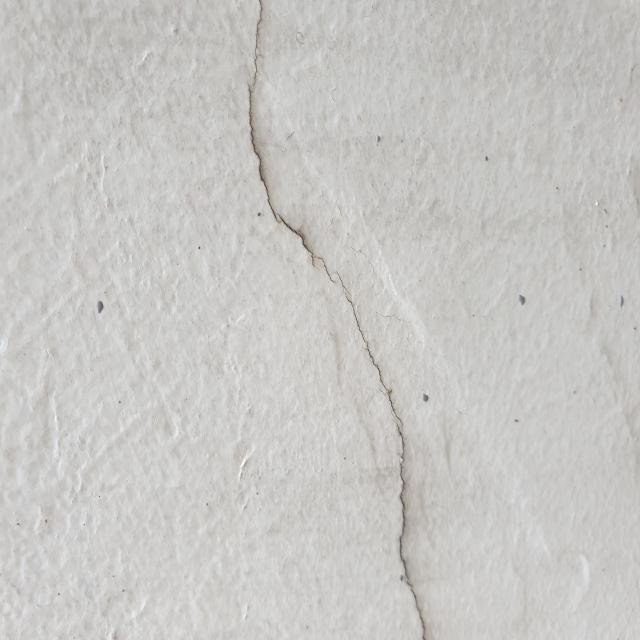SurfaceCrack: (220, 1, 465, 640)
